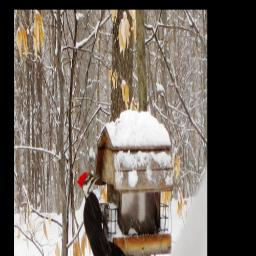Woodpecker: (76, 171, 136, 256)
